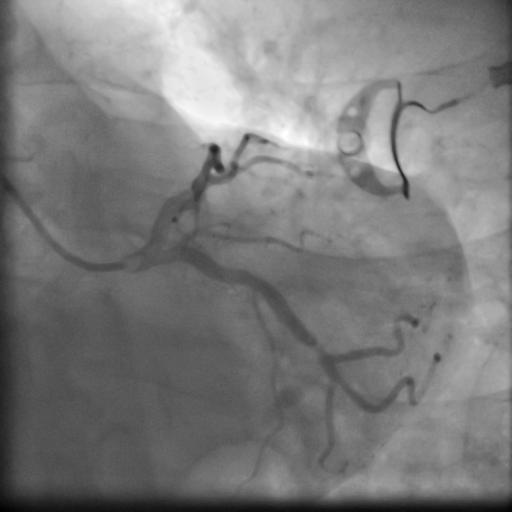Stenosis: (311, 337, 326, 362)
